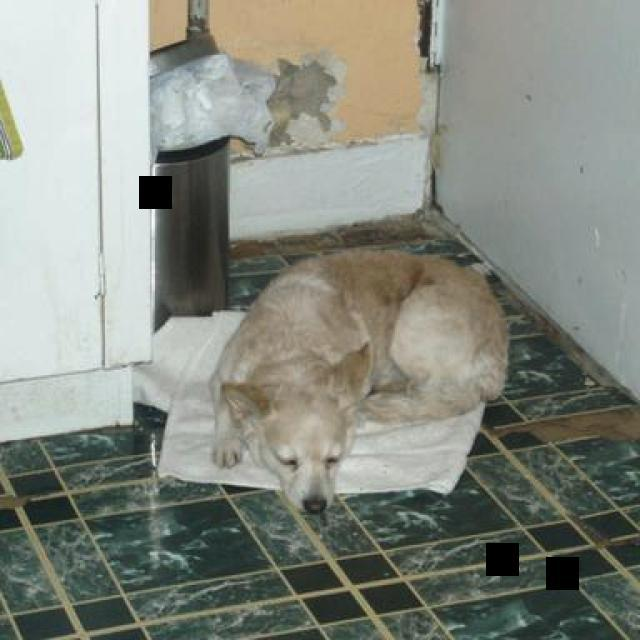adult_dog: (207, 249, 508, 518)
